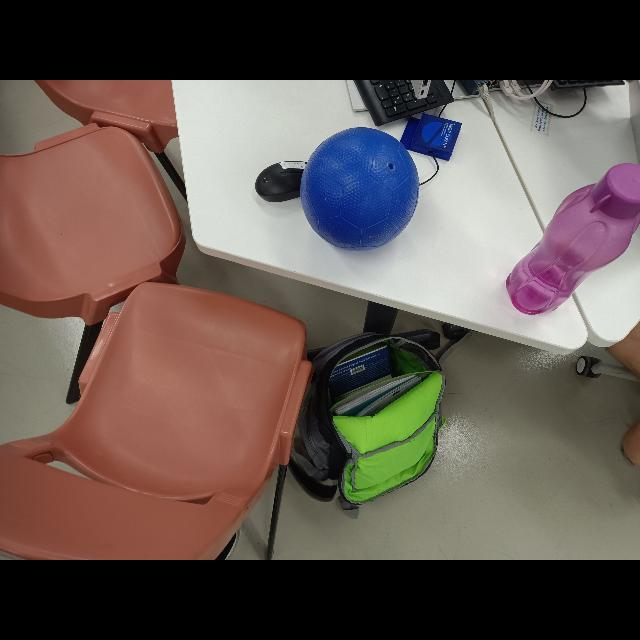B: (300, 126, 420, 252)
